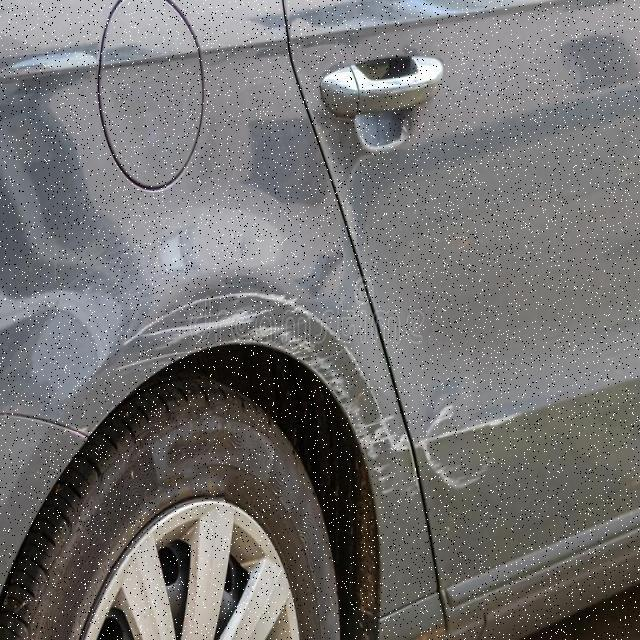doorouter-dent: (400, 0, 639, 536)
quaterpanel-dent: (0, 0, 310, 476), (2, 319, 383, 638)
